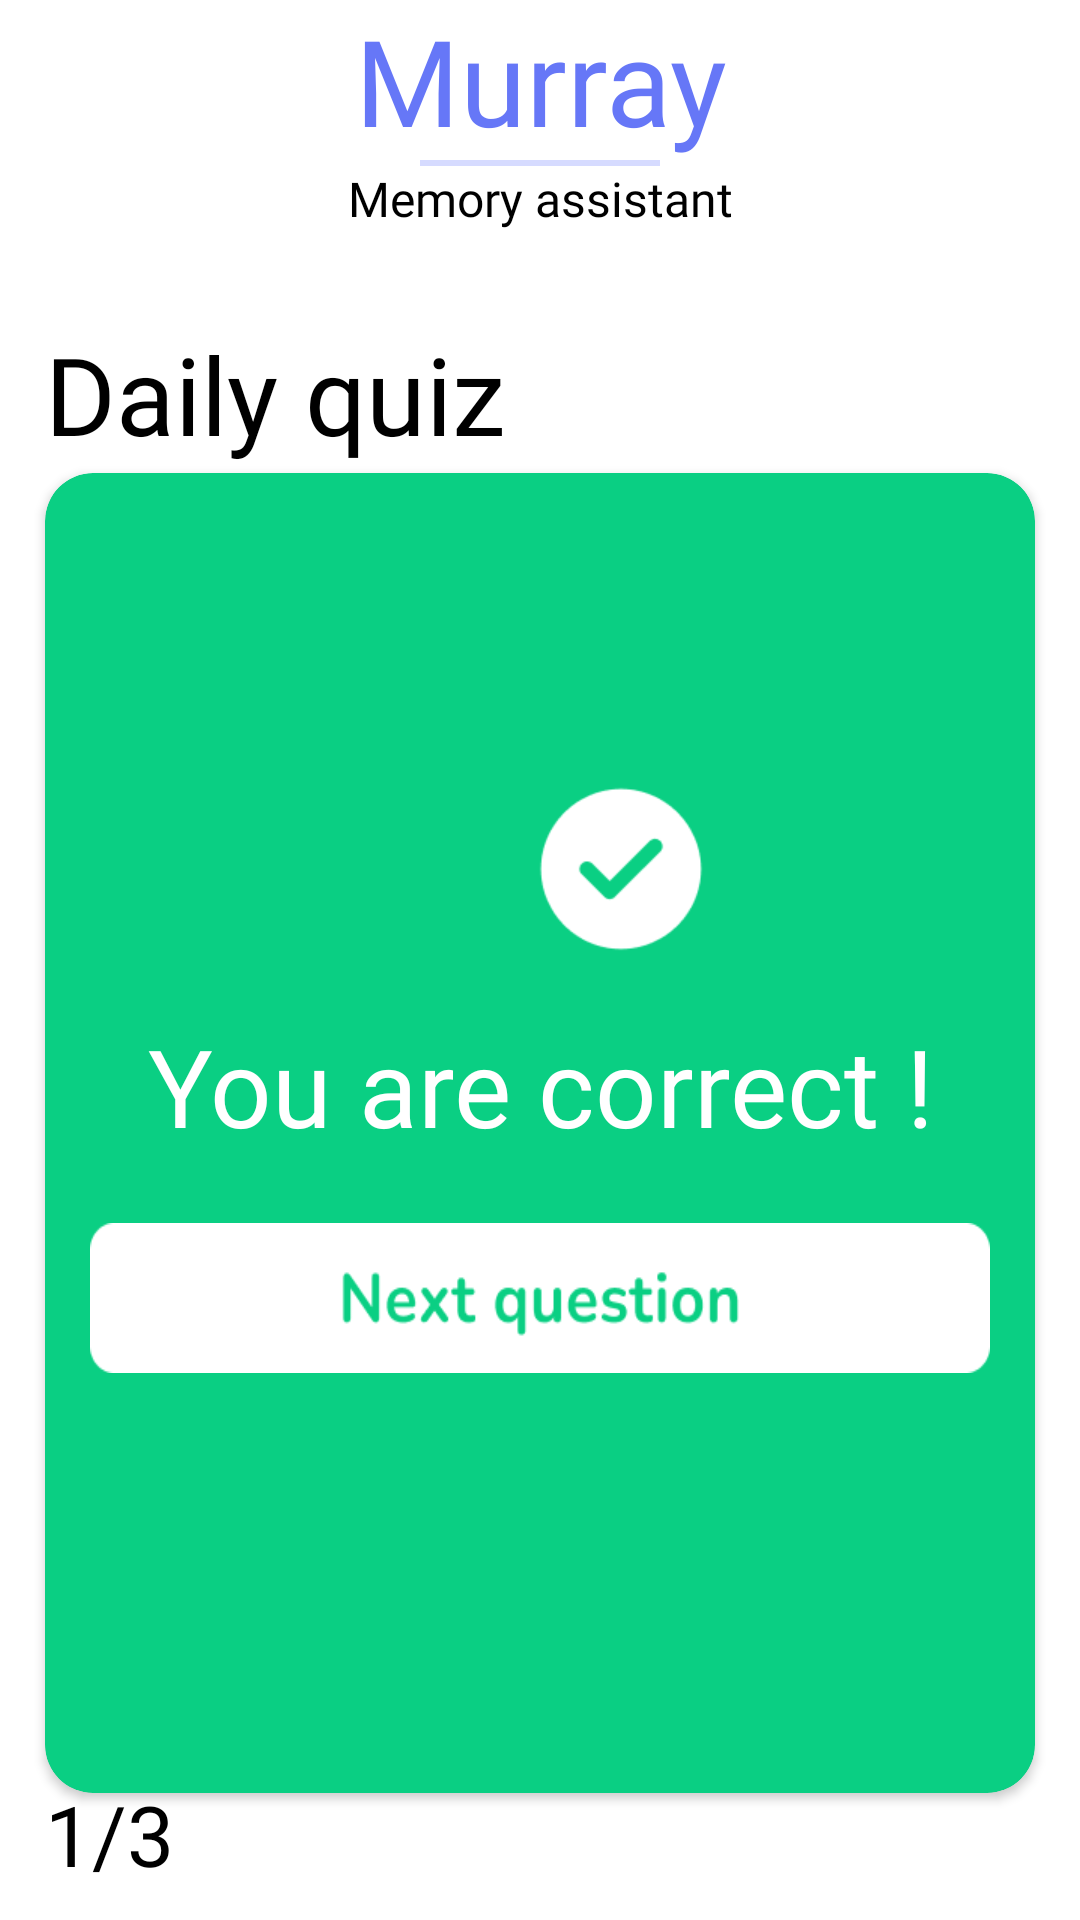

Where icons sit on this 1080px×1920px app screen, as (x1, y1, x2, y2):
success tick: (540, 788, 702, 950)
